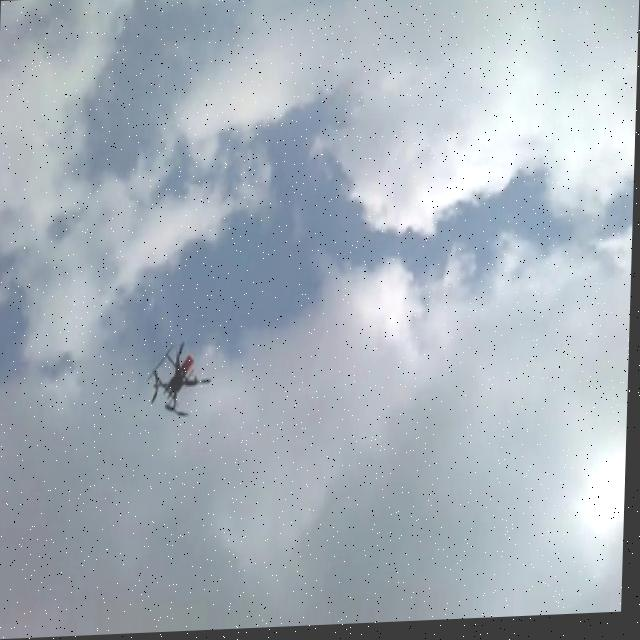drone: (149, 339, 217, 424)
